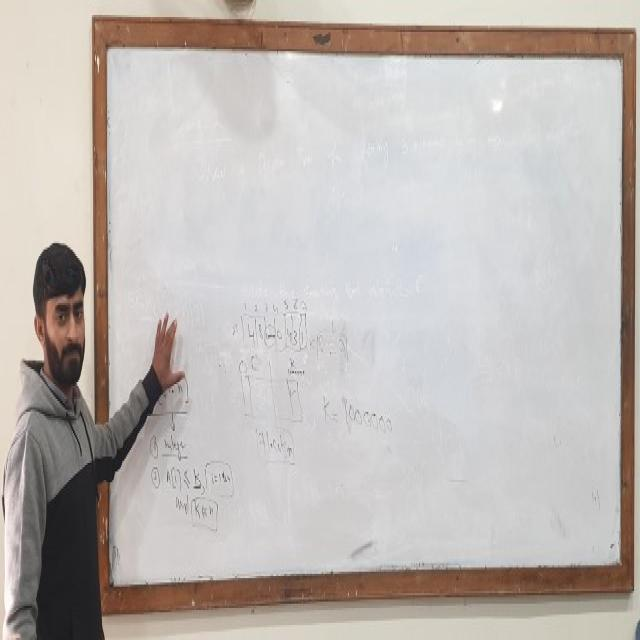Instructor: (17, 230, 107, 636)
White-board: (99, 26, 629, 598)
